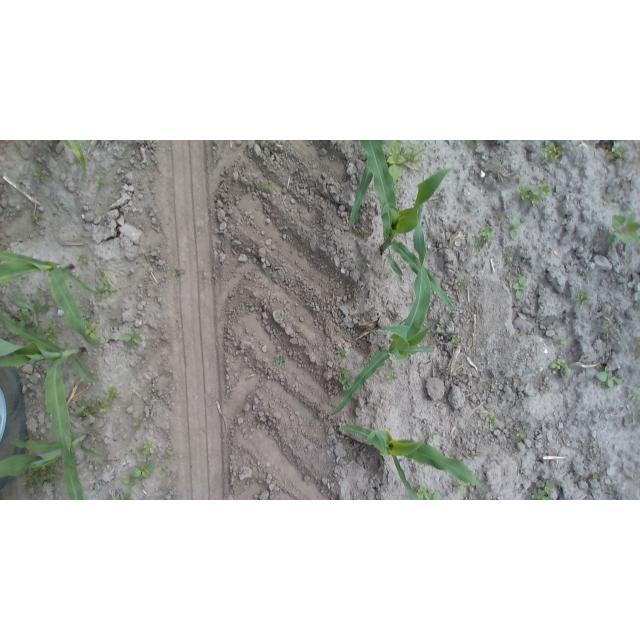Maize: (330, 206, 438, 418), (0, 315, 98, 500), (360, 140, 453, 308), (340, 423, 486, 499), (0, 250, 98, 346), (1, 432, 106, 492), (65, 140, 93, 180)
Weeds: (12, 296, 49, 333), (605, 213, 640, 246), (518, 180, 552, 207), (384, 140, 405, 180), (77, 398, 112, 419), (22, 468, 54, 487), (600, 365, 625, 387), (541, 142, 565, 162), (511, 214, 526, 241), (474, 226, 492, 248), (405, 144, 425, 163), (134, 461, 155, 478), (605, 144, 627, 160), (417, 485, 440, 500), (514, 276, 527, 300), (337, 369, 351, 390), (95, 283, 111, 301), (123, 330, 143, 344), (104, 386, 120, 403), (548, 358, 568, 371), (575, 290, 590, 306), (259, 178, 274, 193), (86, 323, 99, 339), (529, 491, 552, 500), (487, 414, 498, 430), (33, 169, 46, 182), (45, 329, 58, 342), (144, 439, 155, 453), (628, 388, 638, 401), (435, 322, 445, 334), (122, 479, 139, 486), (544, 479, 553, 491), (161, 467, 173, 476), (506, 253, 515, 264), (458, 481, 470, 489), (335, 348, 347, 356), (272, 357, 284, 365), (603, 197, 613, 205), (451, 335, 460, 343), (389, 370, 397, 379), (560, 335, 567, 345), (466, 140, 482, 144), (98, 270, 105, 279), (133, 420, 143, 426), (518, 429, 525, 437), (137, 447, 144, 453), (165, 451, 173, 456), (122, 494, 130, 499), (99, 178, 103, 186), (593, 473, 598, 479), (395, 186, 400, 191), (77, 254, 82, 258)
